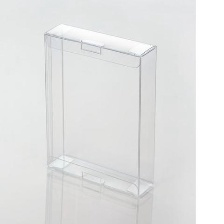plastic_box: (34, 18, 164, 206)
